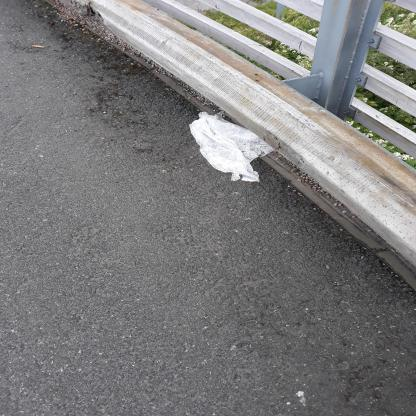metal: (112, 141, 184, 230)
